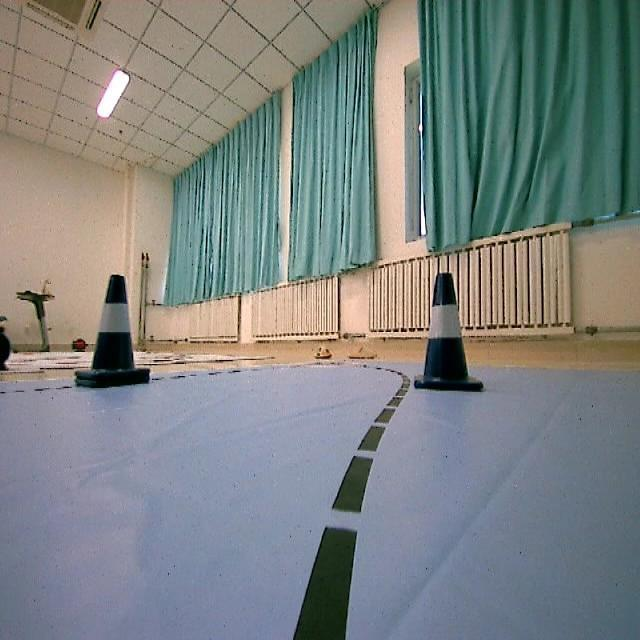obstacle: (416, 264, 486, 412), (74, 265, 150, 396)
